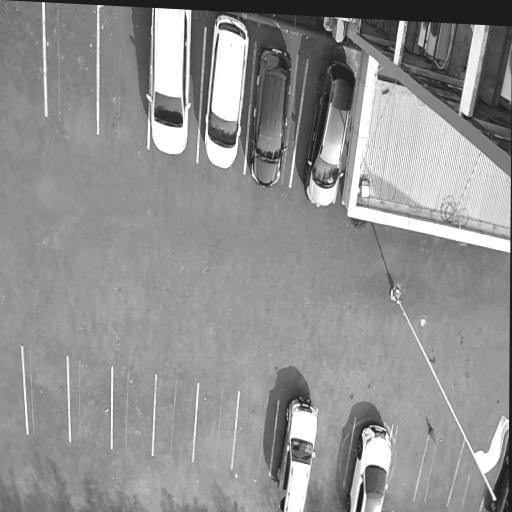Car: (300, 51, 358, 213), (202, 12, 252, 174), (247, 40, 296, 194), (151, 8, 194, 160), (270, 394, 321, 512), (342, 416, 396, 512), (488, 451, 508, 512)
Space Available: (98, 6, 151, 149), (43, 4, 97, 135), (0, 1, 44, 116), (23, 349, 70, 443), (69, 357, 111, 451), (232, 392, 278, 477), (112, 367, 155, 455), (194, 384, 237, 471), (153, 377, 197, 462), (414, 442, 465, 507), (312, 415, 354, 488), (386, 428, 426, 503), (448, 440, 487, 512), (0, 345, 27, 433)
